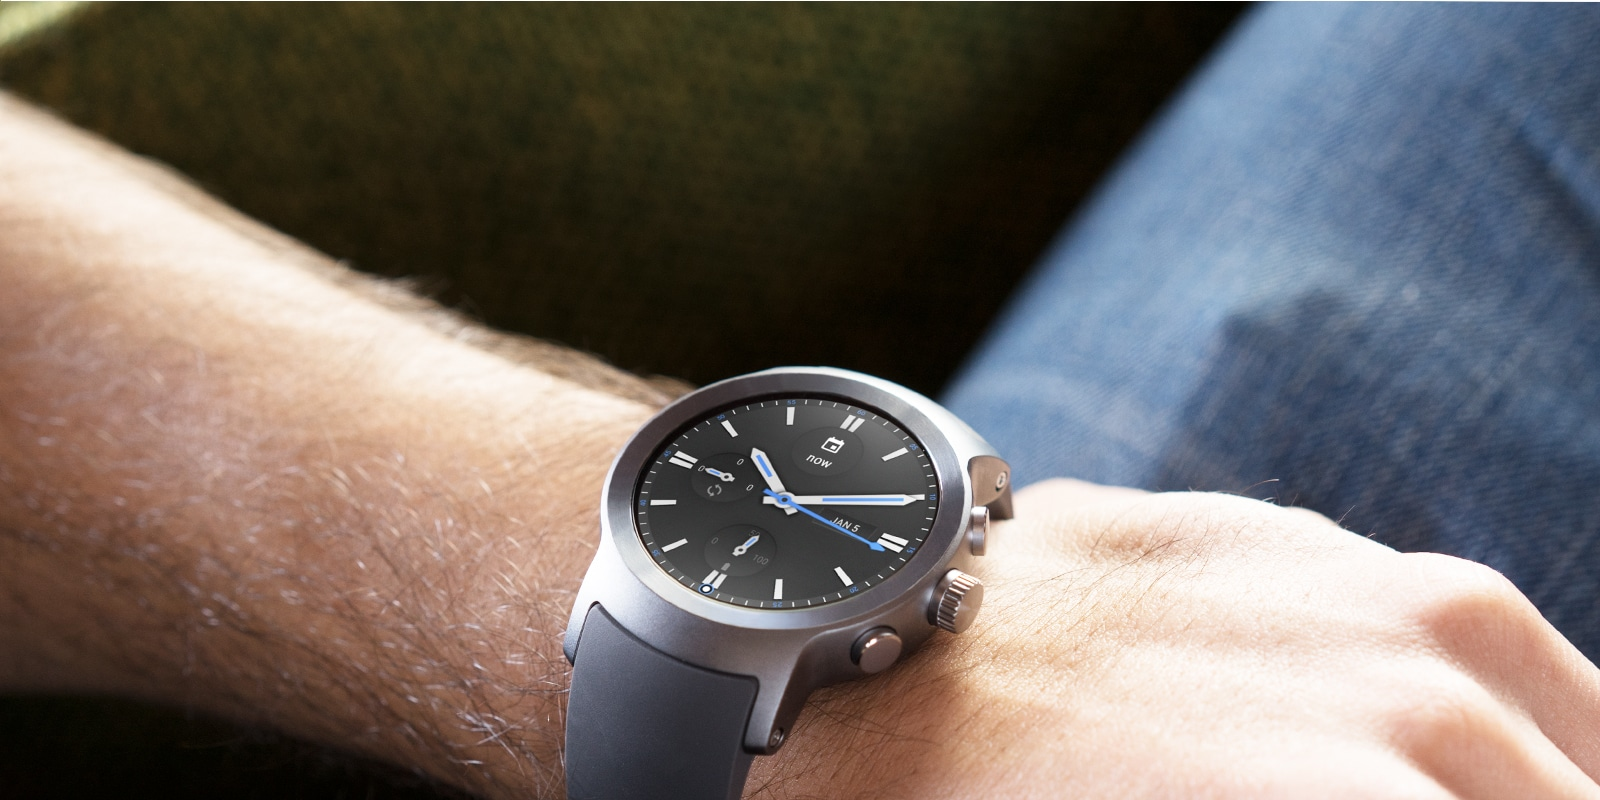clock: (598, 366, 987, 667)
